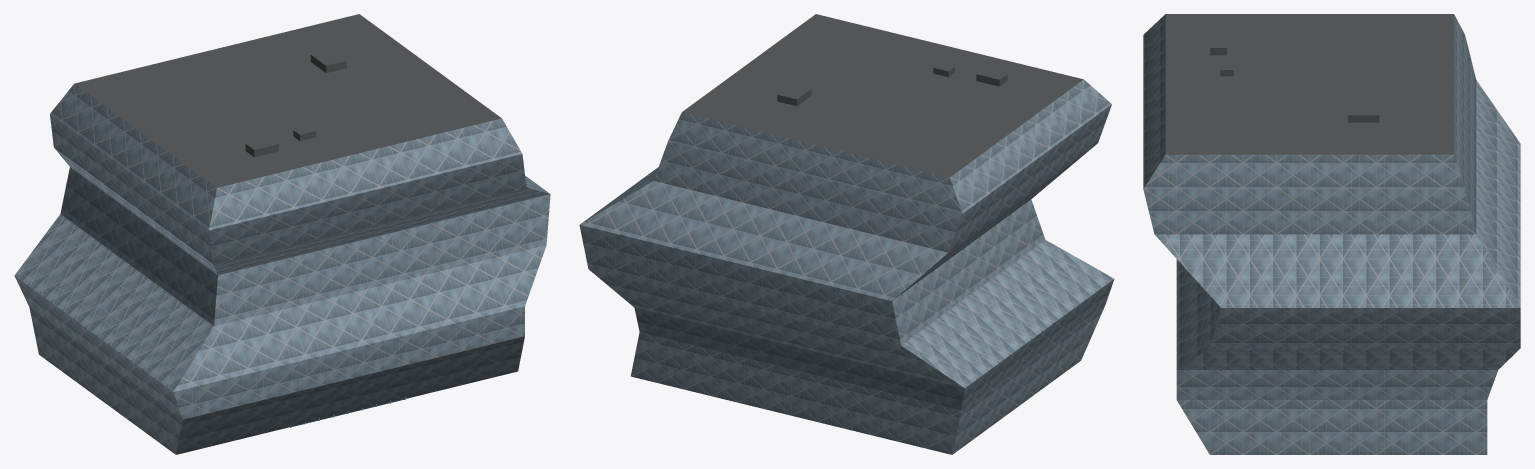
File: central_library.glb
3 views of the same model, side by side, from view 1: azimuth 30°, elevation 25°; view 2: azimuth 150°, elevation 25°; view 3: azimuth 270°, elevation 25° (orthographic). The views are drawn at different scales.
Parts seen in each view (by area): view 1: central_library; view 2: central_library; view 3: central_library.
Part boxes in pixels (x1=…): central_library: x1=14, y1=14, x2=550, y2=454; central_library: x1=579, y1=14, x2=1114, y2=454; central_library: x1=1143, y1=14, x2=1520, y2=454.
Bounding box in the file's own units: 84 × 57.49 × 68.
Materials: 2 (2 with a texture image).
